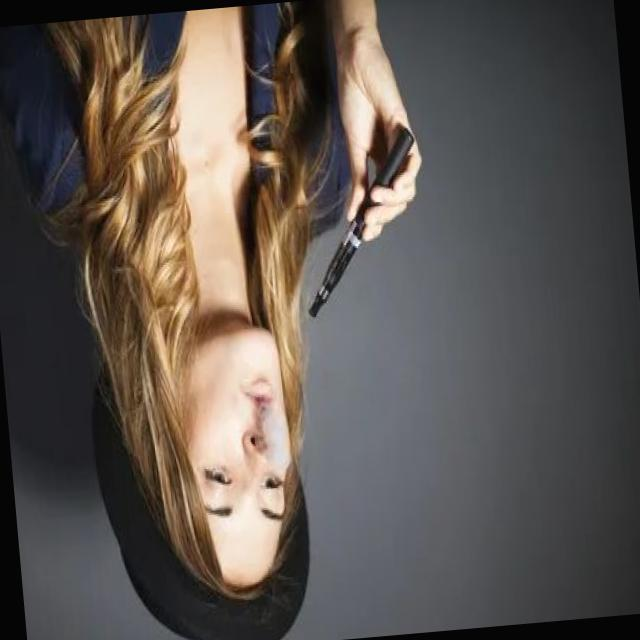cigarette: (290, 120, 433, 322)
